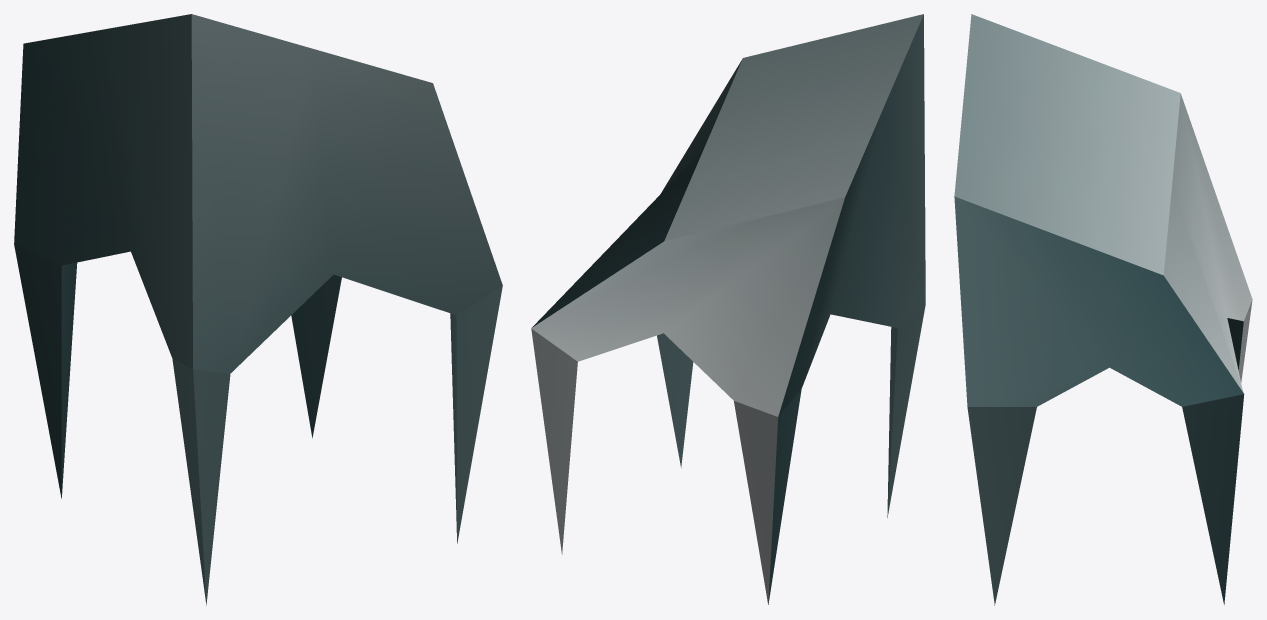
The model's file is tempBaddie.fbx.
3 renders of one model, left to right at view 1: azimuth 30°, elevation 25°; view 2: azimuth 150°, elevation 25°; view 3: azimuth 270°, elevation 25°, orthographic. The views are drawn at different scales.
Parts seen in each view (by area): view 1: pCube9; view 2: pCube9; view 3: pCube9.
Part boxes in pixels (bbox=[...]): pCube9: bbox=[14, 14, 502, 605]; pCube9: bbox=[531, 14, 925, 604]; pCube9: bbox=[954, 14, 1252, 605].
Size of the model in its own units: 1.34 by 2.27 by 1.27.
